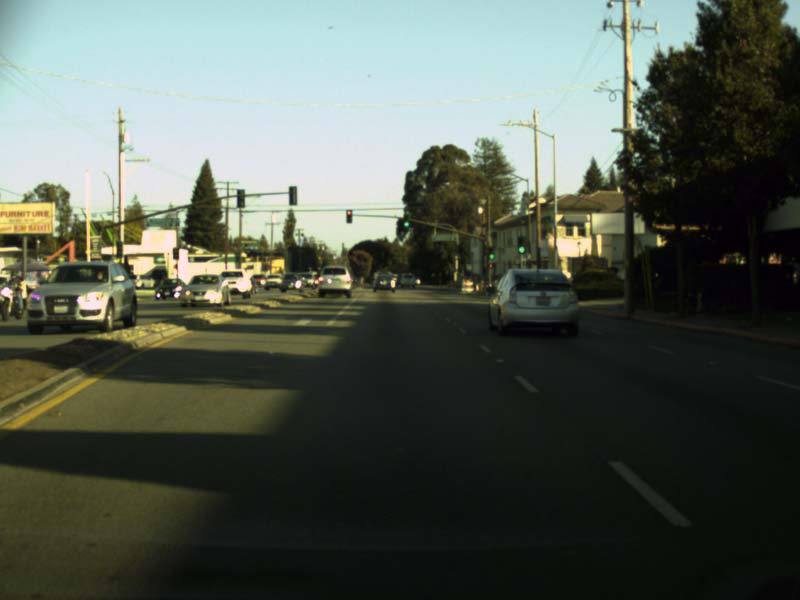Green: (517, 237, 526, 253), (403, 217, 410, 228), (488, 247, 494, 259)
Red: (346, 209, 351, 223)
